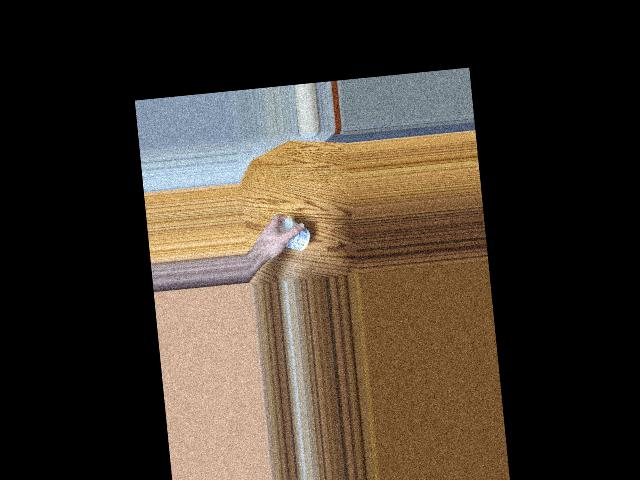cotage: (278, 214, 312, 255)
